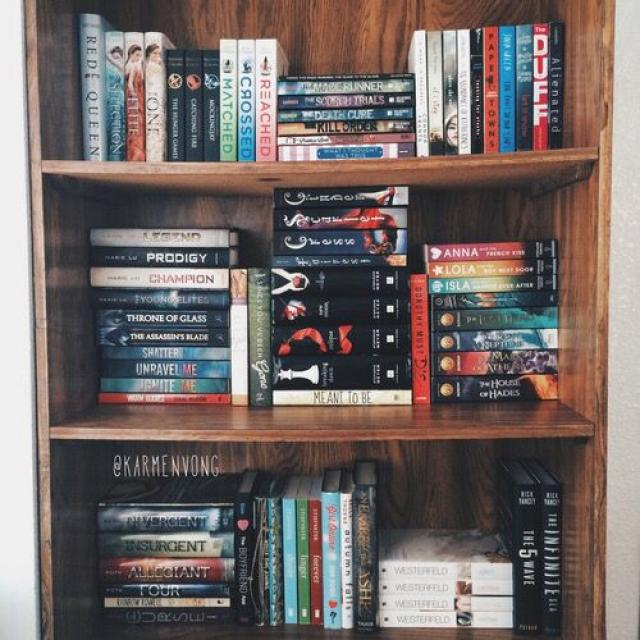book: (272, 356, 411, 388), (271, 296, 410, 327), (96, 504, 234, 532), (515, 484, 540, 634), (432, 348, 558, 377), (272, 327, 410, 353), (431, 375, 558, 403), (81, 15, 105, 160), (271, 269, 409, 294), (541, 484, 563, 634), (354, 486, 376, 632), (431, 307, 559, 332), (96, 534, 234, 557), (249, 270, 271, 406), (98, 560, 234, 582), (274, 232, 407, 254), (428, 240, 557, 262), (432, 330, 558, 351), (322, 492, 341, 628), (106, 31, 126, 160), (126, 32, 146, 160), (410, 275, 430, 403), (274, 209, 407, 228), (90, 228, 229, 246), (90, 268, 228, 286), (429, 259, 559, 278), (93, 328, 230, 346), (93, 310, 230, 328), (378, 562, 514, 580), (256, 40, 276, 161), (90, 249, 229, 266), (428, 276, 559, 294), (277, 144, 415, 161), (273, 188, 408, 205), (274, 390, 412, 406), (90, 291, 228, 307), (277, 120, 414, 136), (102, 361, 230, 378), (277, 79, 413, 95), (147, 33, 164, 160), (433, 293, 558, 310), (252, 496, 268, 626), (276, 93, 413, 108), (232, 270, 247, 405), (484, 27, 500, 152), (380, 612, 513, 627), (380, 580, 513, 595), (516, 26, 532, 150), (428, 32, 444, 155), (238, 39, 254, 161), (100, 379, 230, 394), (220, 40, 236, 161), (168, 48, 185, 161), (104, 608, 232, 623), (378, 596, 513, 610), (278, 108, 413, 122), (499, 27, 514, 152), (185, 50, 202, 160), (236, 496, 250, 625), (549, 22, 563, 150), (534, 24, 548, 150), (458, 29, 472, 154), (296, 499, 310, 624), (203, 51, 219, 160), (444, 31, 458, 154), (104, 584, 234, 597), (276, 133, 416, 145), (284, 499, 297, 624), (309, 500, 322, 625), (100, 347, 232, 359), (269, 495, 281, 626), (342, 493, 353, 629), (471, 29, 483, 153), (98, 394, 230, 404), (417, 31, 427, 157), (105, 597, 231, 607), (275, 257, 407, 265)
